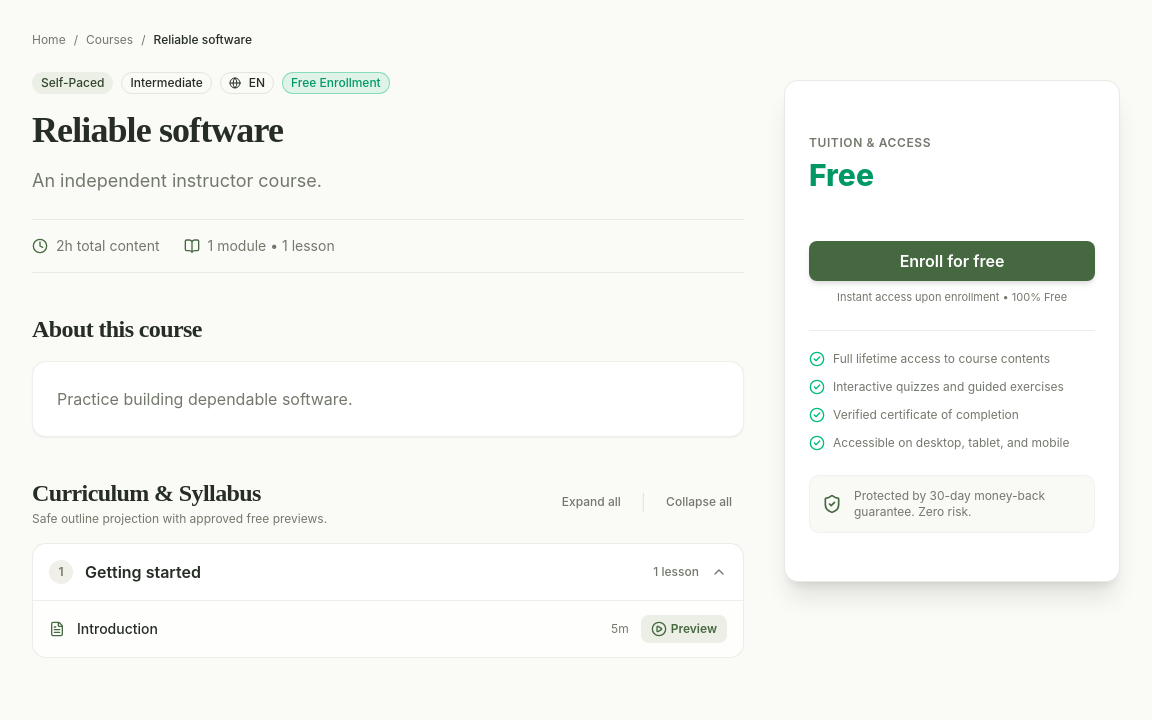
P3-F-FREE-ENROLL Free Course Enrollment CTA › Already enrolled state › shows inline message and "Go to course" button when enrollment returns 409 Conflict
Click the button "Enroll for free": (952, 261) [809,241,1095,281]
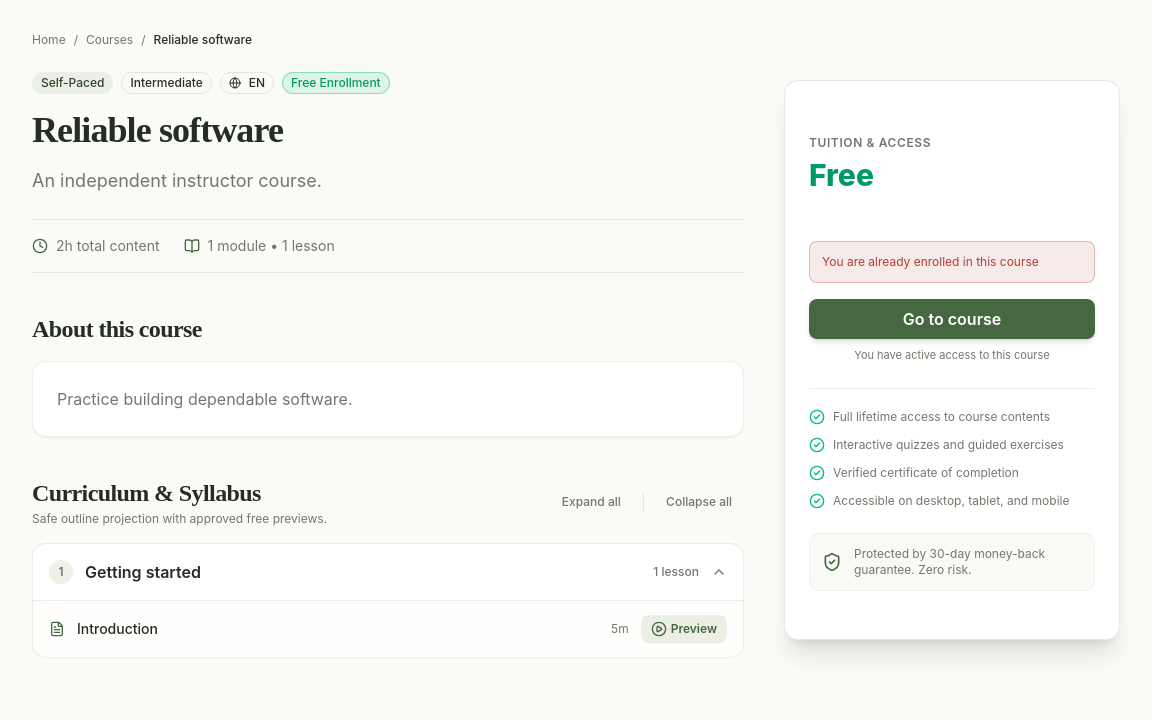
Check: the message "You are already enrolled in this course" is shown, box [809,241,1095,283]
Check: the message shows "already enrolled in this course", box [822,254,1039,269]
Check: the link "Go to course" is shown, box [809,299,1095,339]
